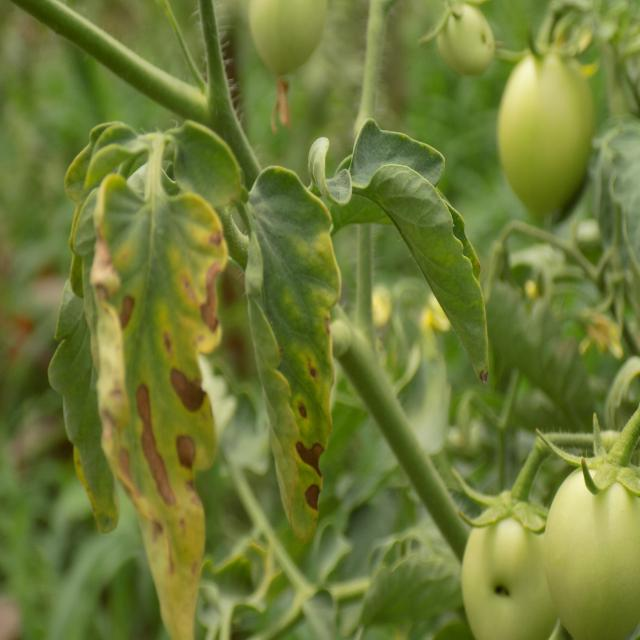tomato_early blight: (86, 169, 231, 640), (245, 159, 336, 559)
